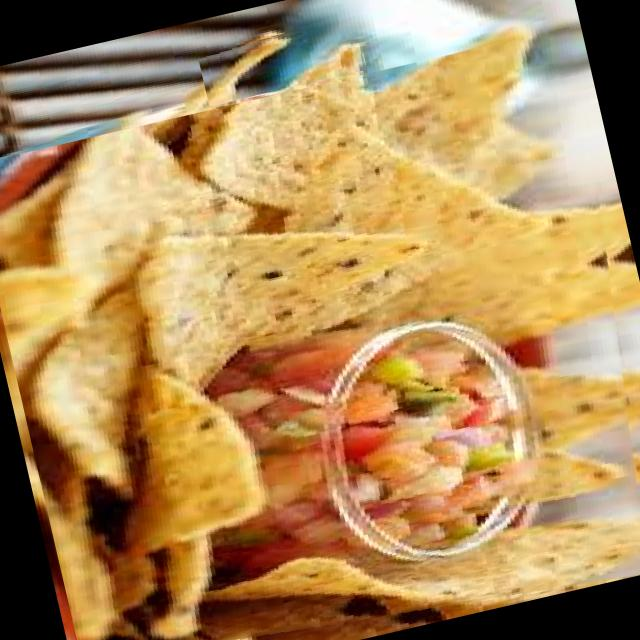Organic: (0, 25, 640, 640), (195, 10, 368, 106)
